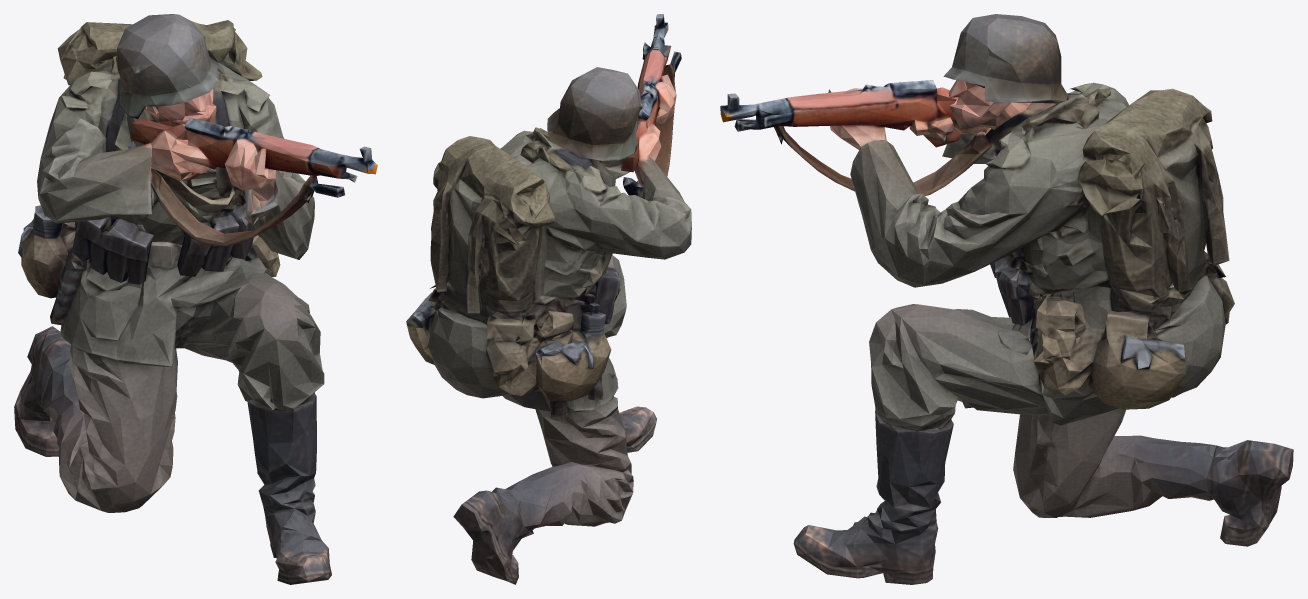
The model's file is inf_rifle_kneel.obj.
The picture shows the model from 3 angles, left to right: view 1: azimuth 30°, elevation 25°; view 2: azimuth 150°, elevation 25°; view 3: azimuth 270°, elevation 25°; orthographic projection. The views are drawn at different scales.
Visible parts, largest first — view 1: inf_rifle_kneel; view 2: inf_rifle_kneel; view 3: inf_rifle_kneel.
Boxes of the visible parts, <box> form: inf_rifle_kneel: <box>14,14,377,584</box>; inf_rifle_kneel: <box>406,14,691,584</box>; inf_rifle_kneel: <box>720,14,1293,584</box>.
Bounding box in the file's own units: 0.7137 × 1.3 × 1.29.
1 material, 1 textured.
